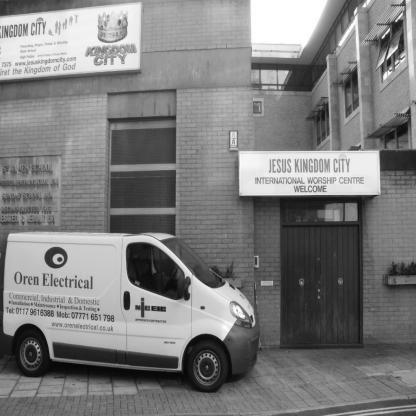truck: (3, 214, 266, 398)
